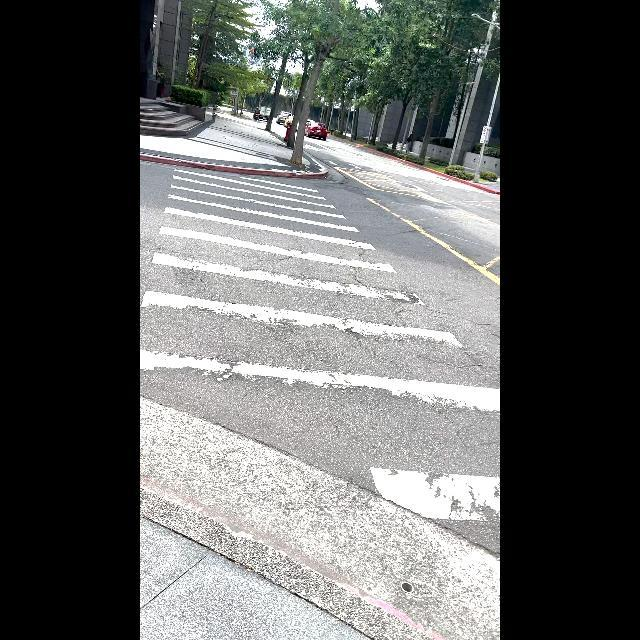sidewalk: (140, 167, 500, 523)
